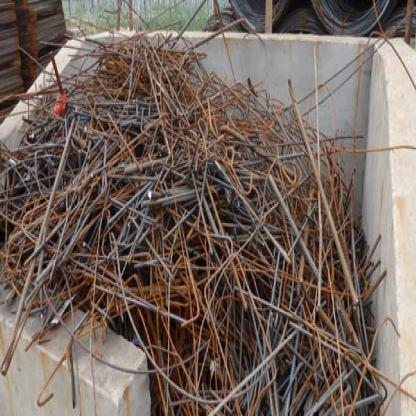rebar: (2, 21, 394, 415)
